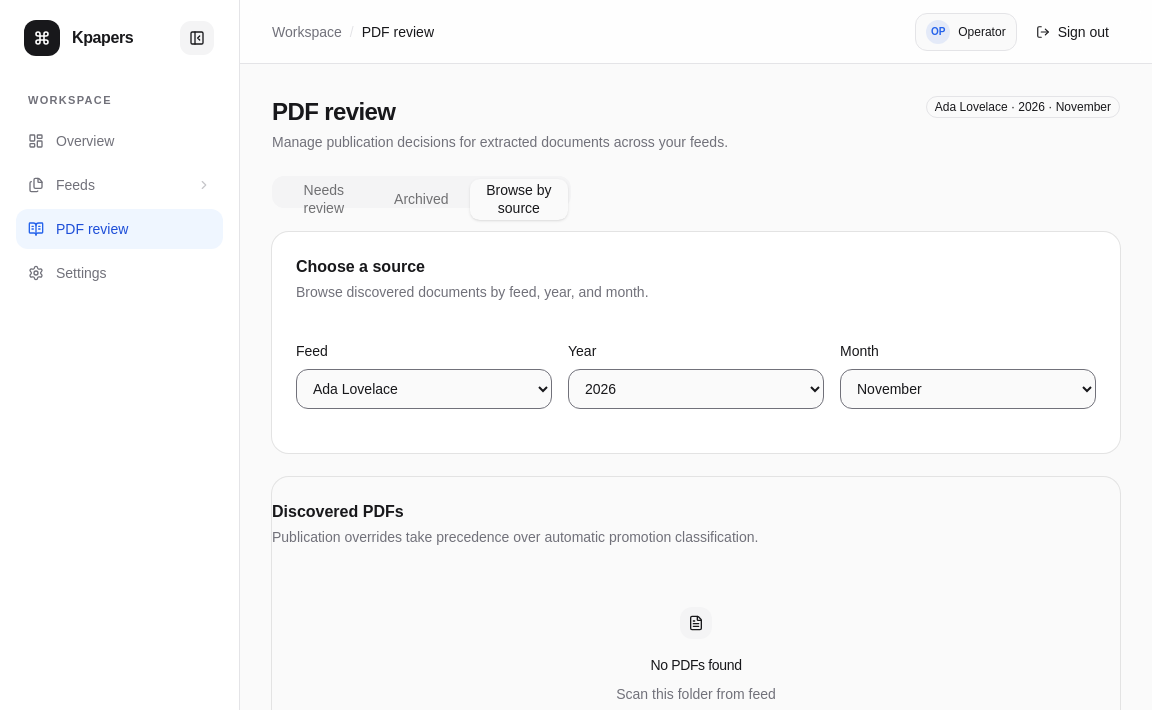
Test: operator session and dashboard shell › keeps dashboard navigation available without a page-level back button
Expected: the text "Ada Lovelace · 2026 · November" is shown, [926,96,1120,118]
Click the button "Feeds".
click(120, 184)  # box [16,164,223,204]
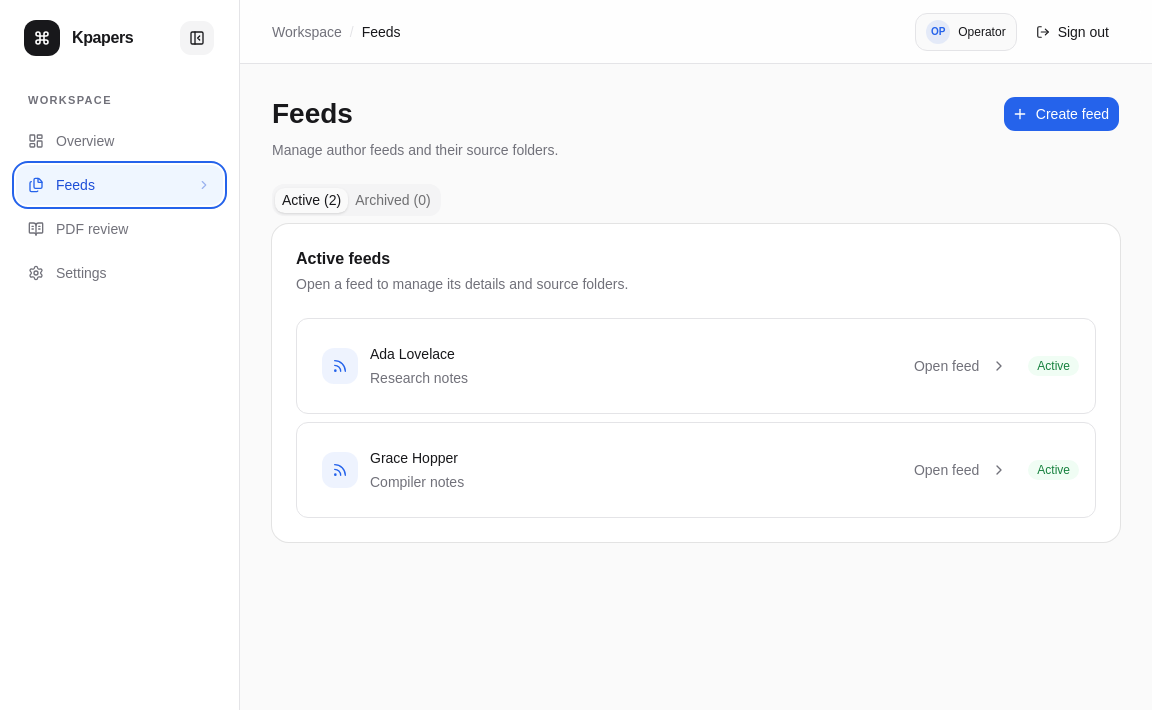
Result: the heading "Feeds" is shown at [272,98,353,129]
